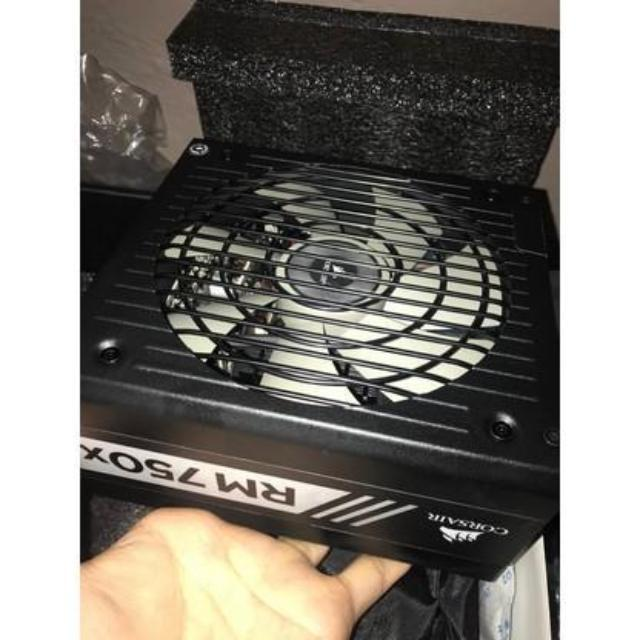PSU: (81, 130, 564, 596)
